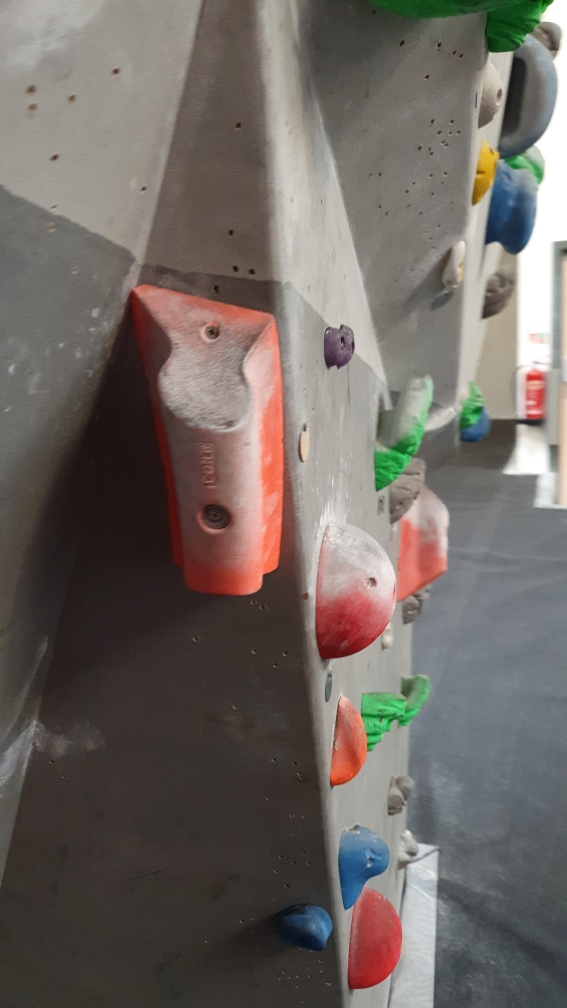Hand Start: (297, 424, 314, 463), (322, 670, 336, 702)
Jug: (370, 372, 435, 496)
Pinch: (126, 277, 284, 600)
Sloper: (313, 520, 399, 661), (346, 889, 404, 995)
